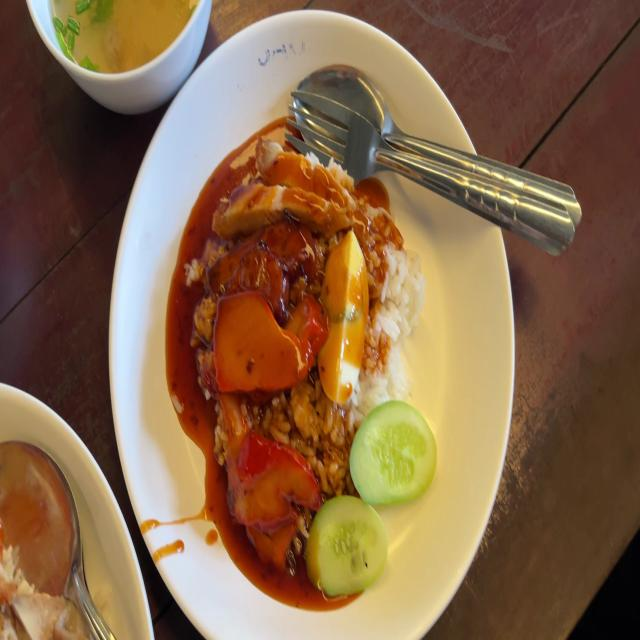01boiled_egg: (322, 230, 366, 397)
01chainese_sausage: (217, 226, 317, 304)
01crispy_pork: (212, 136, 363, 238)
01red_pork: (228, 433, 318, 562), (216, 292, 325, 387)
01red_pork_and_crispy_pork: (194, 131, 446, 602)
cucumber: (305, 494, 390, 604), (349, 400, 438, 505)
